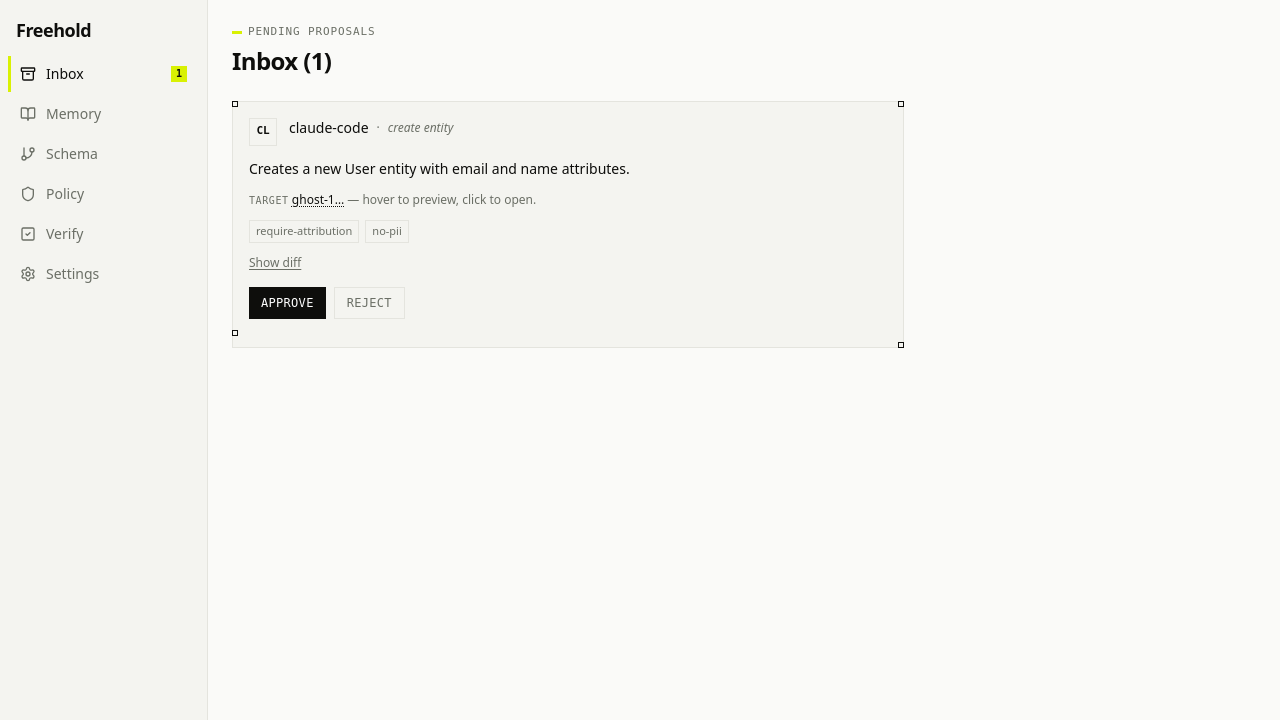
it: Inbox › hover preview says so when the target node is gone
The width and height of the screenshot is (1280, 720).
Hover over the element showing "ghost-1…" at (318, 200), box [292,192,344,208]
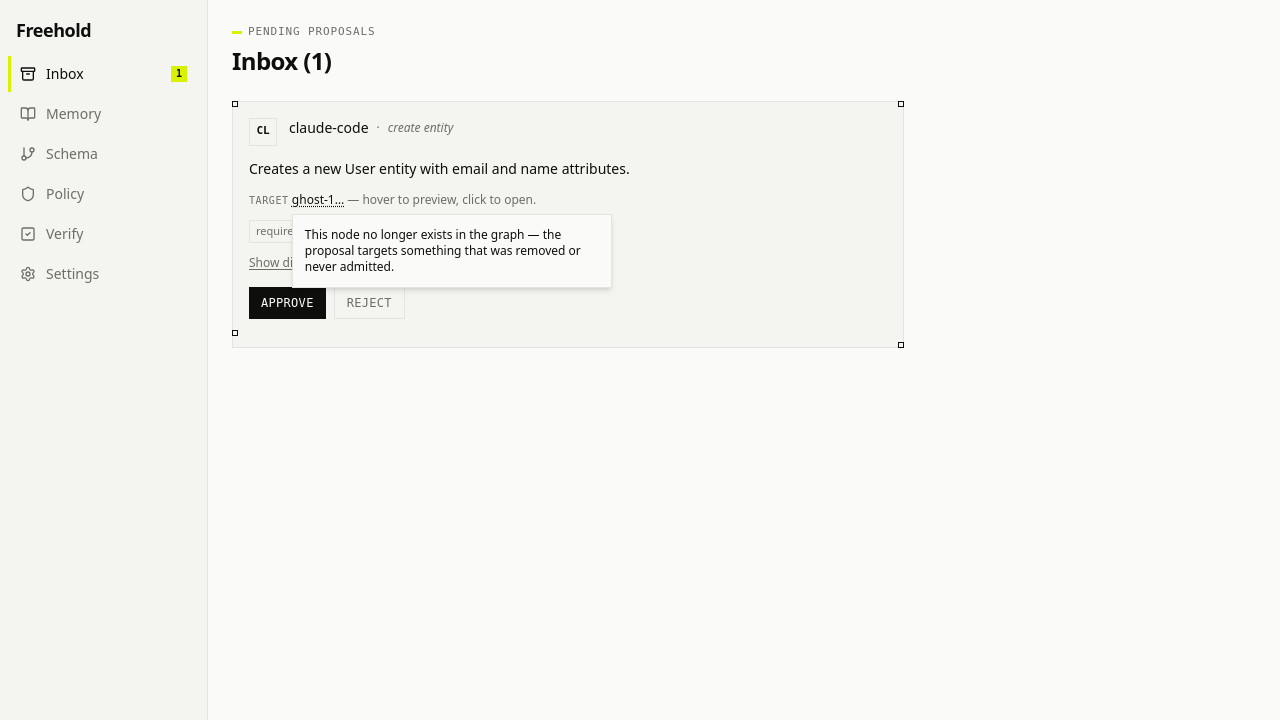
Now the element with test id "subject-preview" shows "no longer exists", box [305,226,581,275]
